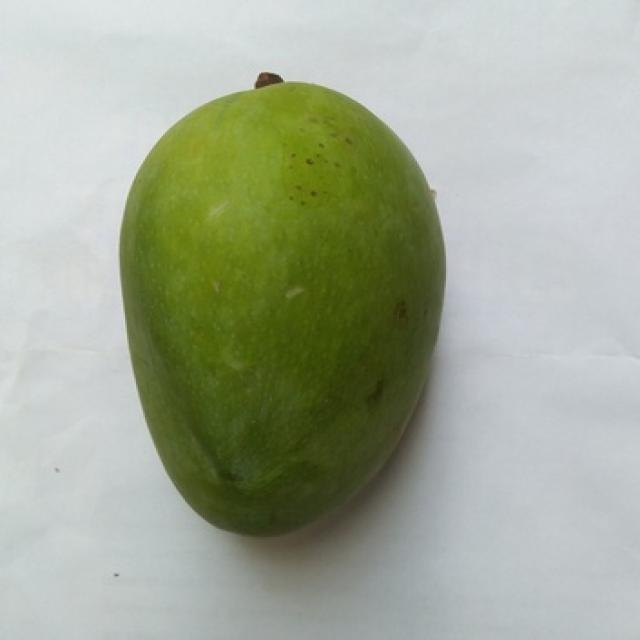Mango: (121, 75, 444, 534)
